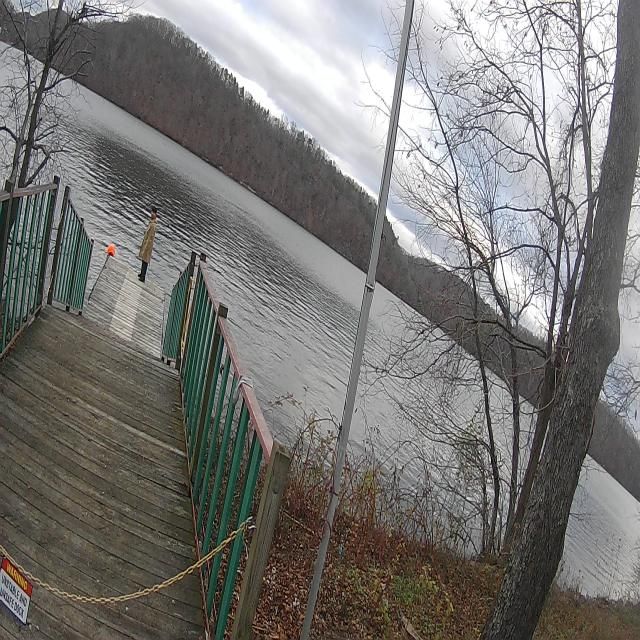Buoy: (106, 241, 116, 262)
